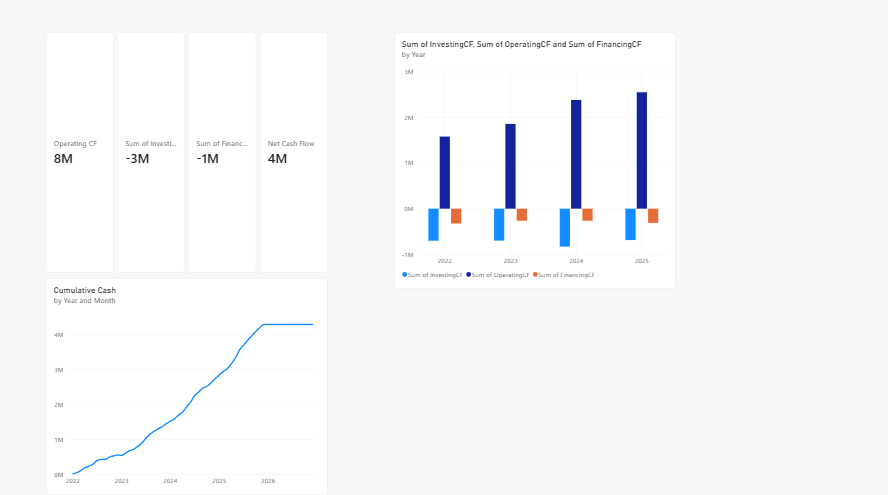

The dashboard page shown, as its layout file describes it:
{"tool":"powerbi","page":{"name":"Cash Flow","canvas":[1920,1080],"ordinal":3},"visuals":[{"type":"cardVisual","fields":{"Data":["BalanceSheet.Operating CF","Sum(CashFlow.InvestingCF)","Sum(CashFlow.FinancingCF)","BalanceSheet.Net Cash Flow"]},"box":[99.4,79.9,609.1,520.6],"z":0},{"type":"clusteredColumnChart","fields":{"Category":["Calendar.Date.Variation.Date Hierarchy.Year"],"Y":["Sum(CashFlow.InvestingCF)","Sum(CashFlow.OperatingCF)","Sum(CashFlow.FinancingCF)"]},"box":[851,79.9,609.1,555.1],"z":1000},{"type":"lineChart","fields":{"Category":["Calendar.Date.Variation.Date Hierarchy.Year","Calendar.Date.Variation.Date Hierarchy.Month"],"Y":["BalanceSheet.Cumulative Cash"]},"box":[99,611,609,469],"z":2000}]}

Visuals, with their boxes in screenshot pixels (x1, y1, x2, y2), scaled from the page's 1920x1080 canvas onto the 888x495 screenshot:
cardVisual - BalanceSheet.Operating CF x Sum(CashFlow.InvestingCF): l=46, t=37, r=328, b=275
clusteredColumnChart - Calendar.Date.Variation.Date Hierarchy.Year x Sum(CashFlow.InvestingCF): l=394, t=37, r=675, b=291
lineChart - Calendar.Date.Variation.Date Hierarchy.Year x Calendar.Date.Variation.Date Hierarchy.Month: l=46, t=280, r=327, b=494
